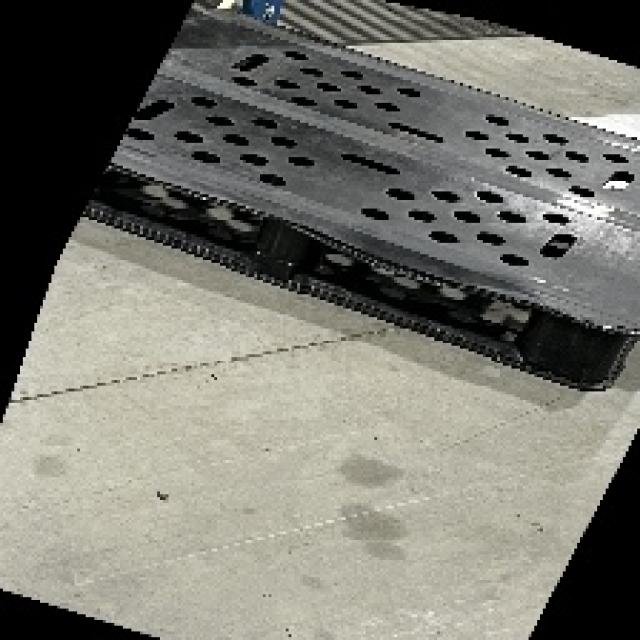igps: (77, 3, 640, 394)
